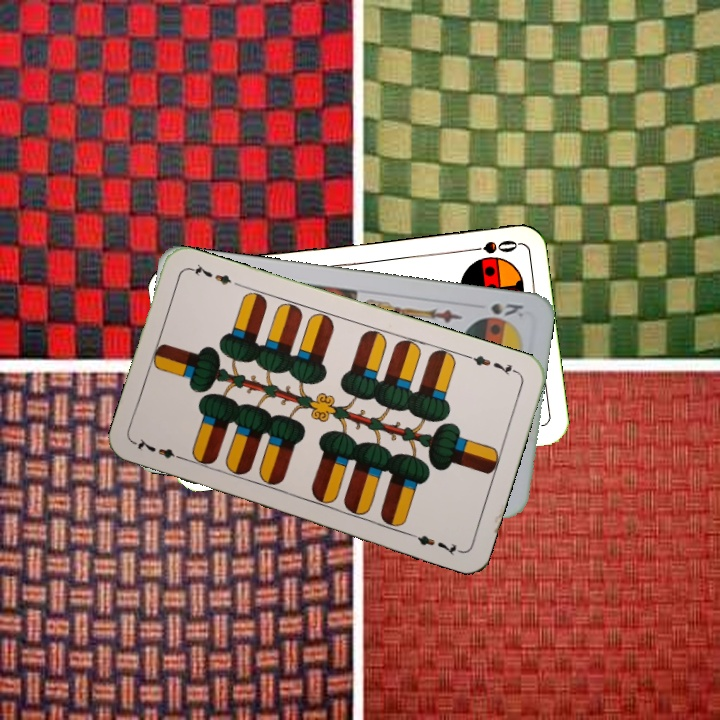E7: (131, 434, 189, 464), (463, 351, 521, 378)
SK: (487, 299, 526, 320)
SO: (461, 236, 520, 257)
